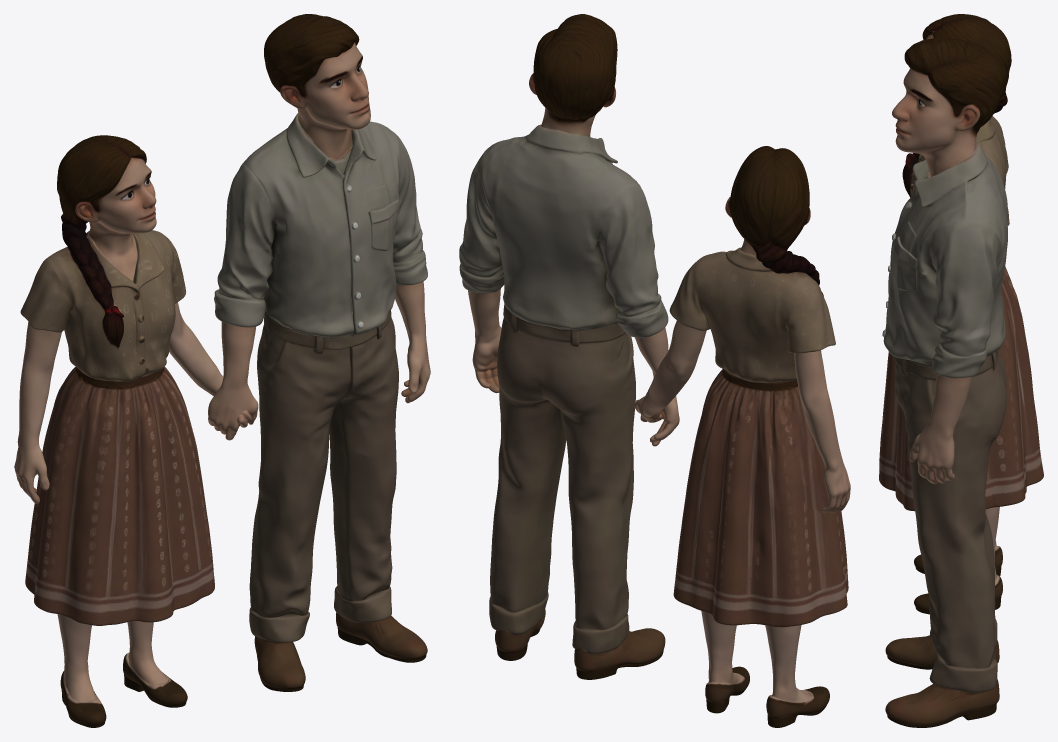
File: 41-la-bruja-de-las-tardes-optimized.glb
3 views of the same model, side by side, from view 1: azimuth 30°, elevation 25°; view 2: azimuth 150°, elevation 25°; view 3: azimuth 270°, elevation 25° (orthographic). The views are drawn at different scales.
Parts seen in each view (by area): view 1: tripo_node_1dbaef3b-3810-4231-9c37-480ecc6c4d85; view 2: tripo_node_1dbaef3b-3810-4231-9c37-480ecc6c4d85; view 3: tripo_node_1dbaef3b-3810-4231-9c37-480ecc6c4d85.
Part boxes in pixels (x1=…): tripo_node_1dbaef3b-3810-4231-9c37-480ecc6c4d85: x1=14, y1=14, x2=430, y2=727; tripo_node_1dbaef3b-3810-4231-9c37-480ecc6c4d85: x1=459, y1=14, x2=850, y2=727; tripo_node_1dbaef3b-3810-4231-9c37-480ecc6c4d85: x1=879, y1=14, x2=1043, y2=727.
Bounding box in the file's own units: 0.6453 × 1 × 0.2315.
1 material, 1 textured.
